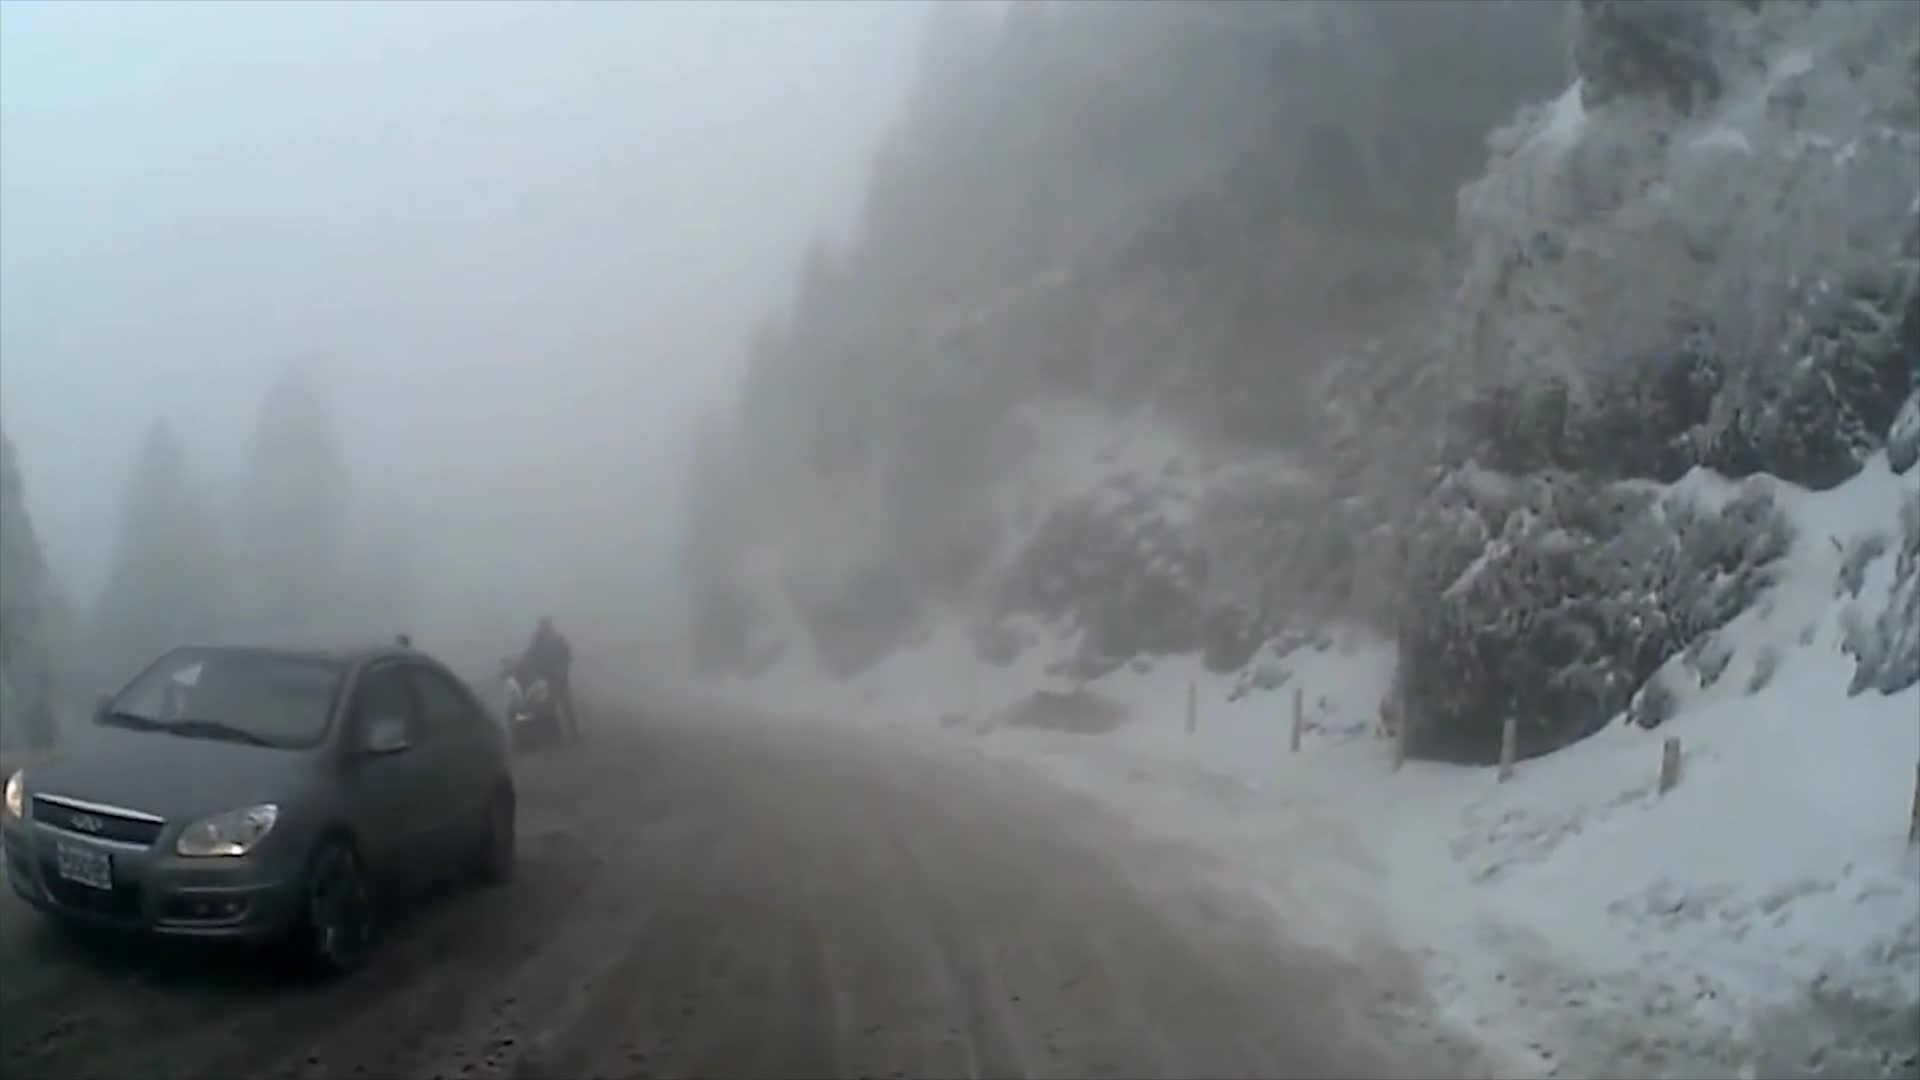pedestrian: (513, 617, 584, 741)
vehicle: (1, 635, 518, 987)
